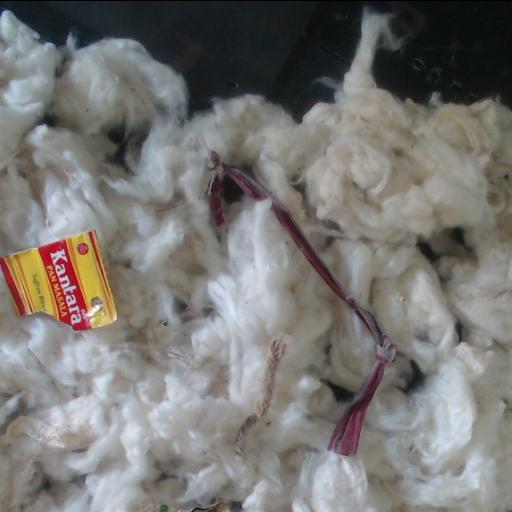cloth: (222, 166, 397, 455), (207, 152, 223, 224)
conveyor belt: (0, 1, 511, 117)
cotton: (0, 6, 511, 512)
jute: (254, 338, 285, 419), (237, 418, 251, 440)
packet: (0, 231, 116, 330)
